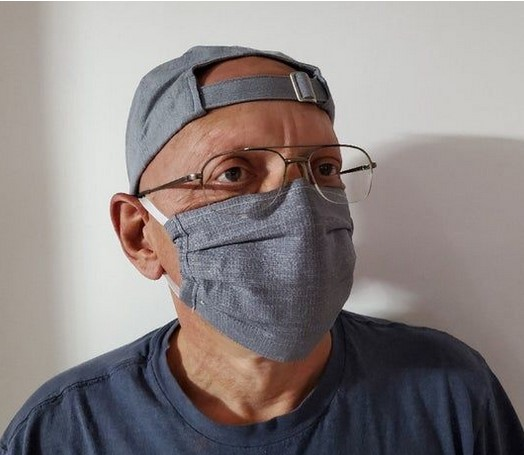face_with_mask: (114, 42, 376, 367)
